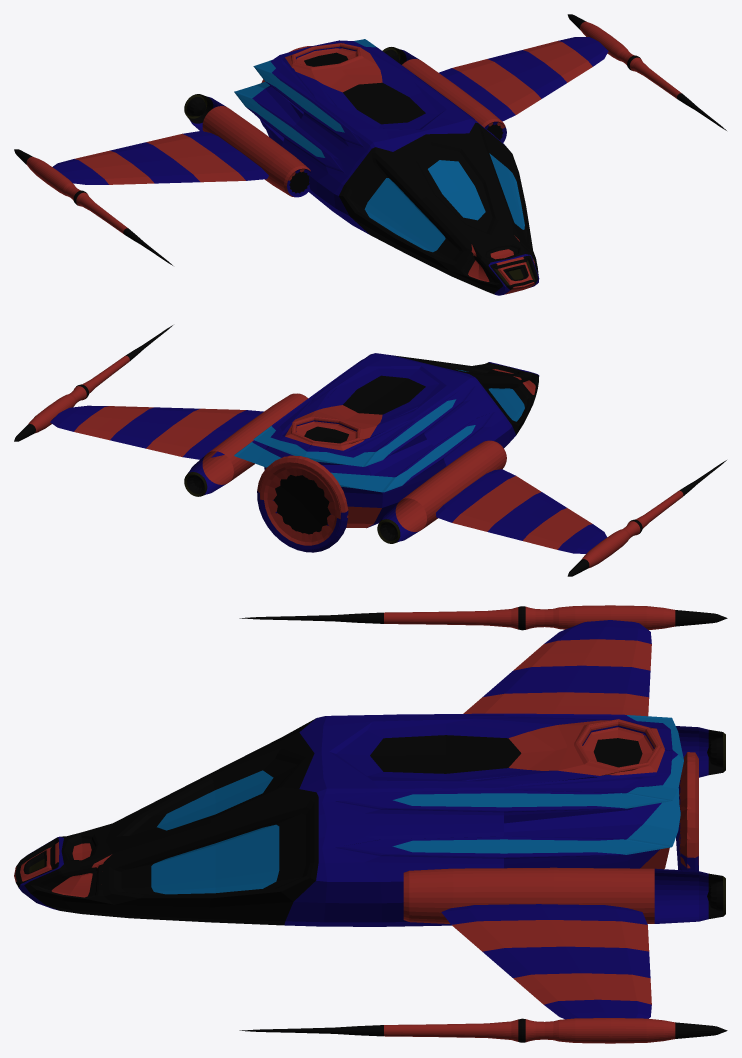
File: goofyahhspaceship.fbx
The picture shows the model from 3 angles, top to bottom: view 1: azimuth 30°, elevation 25°; view 2: azimuth 150°, elevation 25°; view 3: azimuth 270°, elevation 25°; orthographic projection. The views are drawn at different scales.
Parts seen in each view (by area): view 1: Cube; view 2: Cube; view 3: Cube.
Boxes of the visible parts, box(x1,y1,x2,y2) form: Cube: box(14, 14, 726, 295); Cube: box(14, 325, 726, 576); Cube: box(14, 605, 727, 1043).
Bounding box in the file's own units: 1143 × 208 × 815.
